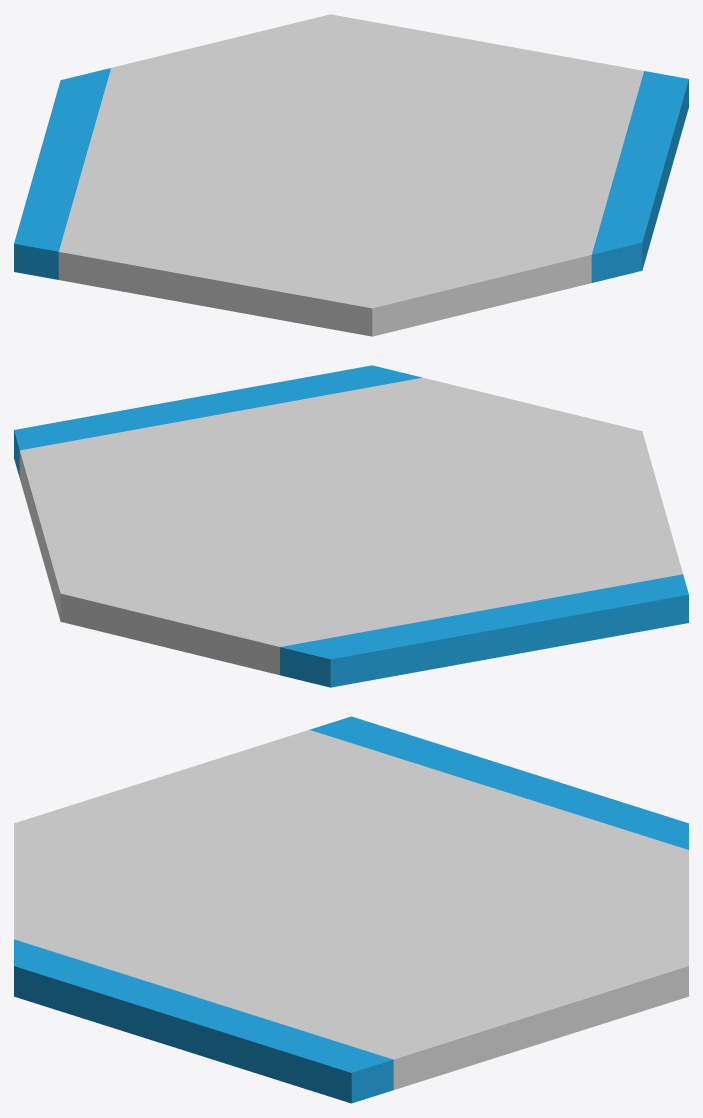
3 renders of one model, top to bottom at view 1: azimuth 30°, elevation 25°; view 2: azimuth 150°, elevation 25°; view 3: azimuth 270°, elevation 25°, orthographic. The views are drawn at different scales.
Visible parts, largest first — view 1: Hexagon, SE, NW; view 2: Hexagon, NW, SE; view 3: Hexagon, SE, NW.
Boxes of the visible parts, x1,y1,x2,y2 form: Hexagon: [58, 14, 643, 336]; SE: [591, 71, 688, 282]; NW: [14, 68, 110, 279]; Hexagon: [19, 377, 682, 675]; NW: [280, 574, 688, 687]; SE: [14, 365, 421, 477]; Hexagon: [14, 730, 688, 1089]; SE: [14, 939, 393, 1103]; NW: [309, 716, 688, 849].
Size of the model in its own units: 5 by 4 by 0.2.
